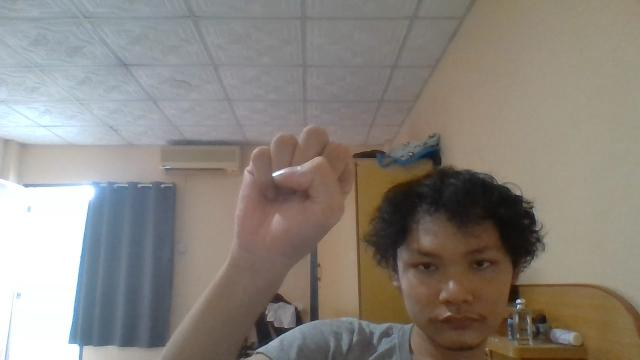forward: (233, 123, 354, 268)
